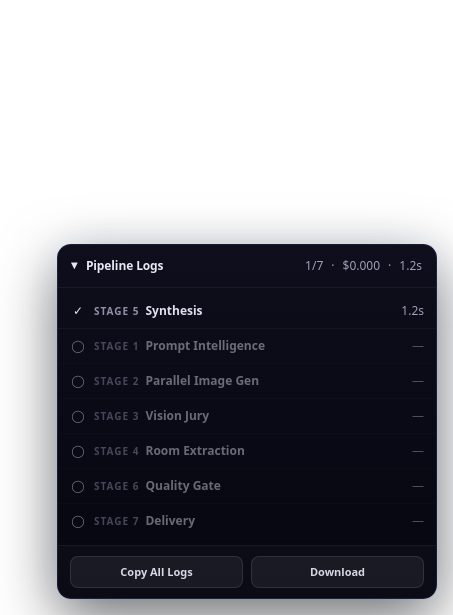
Phase 2.9 Logs Panel — enhancement block › renders OFF badge + reasons when classifier gates enhancement off
The image size is (453, 615).
What coordinates should you click on to do the following:
click the button with test id "pipeline-logs-row" showing "✓ Stage 5Synthesis 1.2s"
I would click on:
 (117, 310)
Its box is [58,294,436,328].
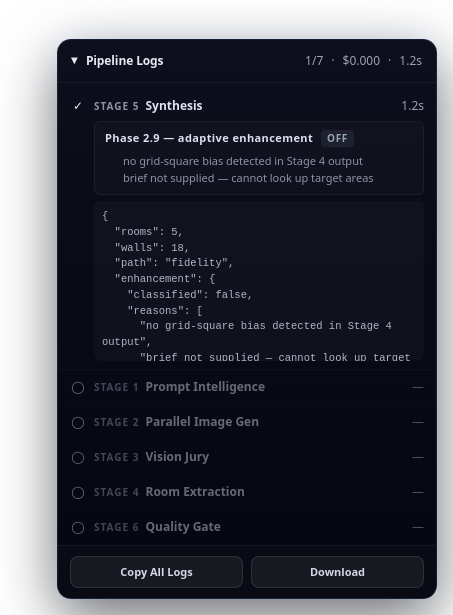
Result: the element with test id "pipeline-logs-phase-29-block" shows "OFF" at [327,131,348,145]
Result: the element with test id "pipeline-logs-phase-29-block" shows "no grid-square bias" at [123,153,363,168]
